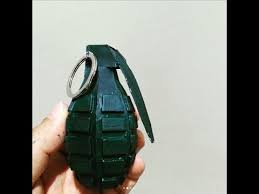e1: (62, 44, 156, 187)
